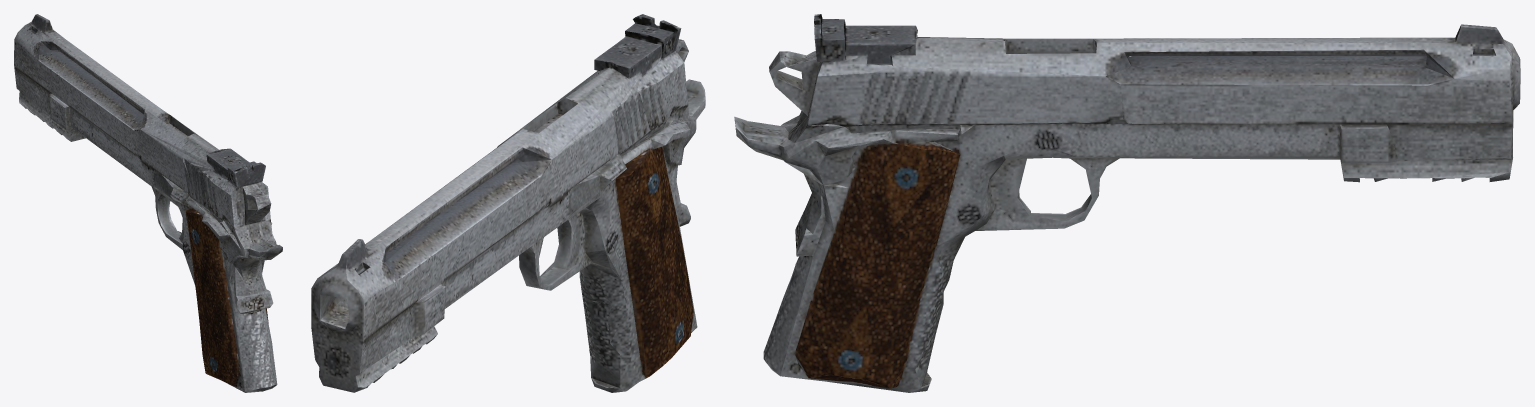
The model's file is hammer_tp.glb.
The picture shows the model from 3 angles, left to right: view 1: azimuth 30°, elevation 25°; view 2: azimuth 150°, elevation 25°; view 3: azimuth 270°, elevation 25°; orthographic projection. The views are drawn at different scales.
Parts seen in each view (by area): view 1: hammer_tp; view 2: hammer_tp; view 3: hammer_tp.
Boxes of the visible parts, x1=… form: hammer_tp: x1=14, y1=14, x2=282, y2=392; hammer_tp: x1=311, y1=14, x2=705, y2=392; hammer_tp: x1=734, y1=14, x2=1520, y2=392.
Size of the model in its own units: 0.0339 by 0.1374 by 0.2693.
Materials: 1 (1 with a texture image).
